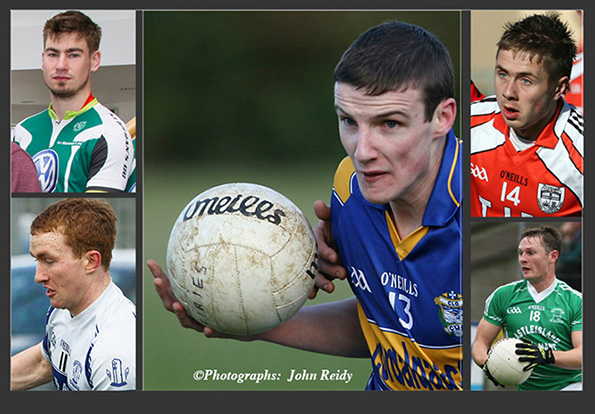ball: (170, 190, 318, 332), (491, 331, 537, 388)
player: (232, 13, 469, 378), (22, 201, 147, 404), (476, 216, 583, 385), (481, 21, 573, 211), (32, 6, 122, 185)
